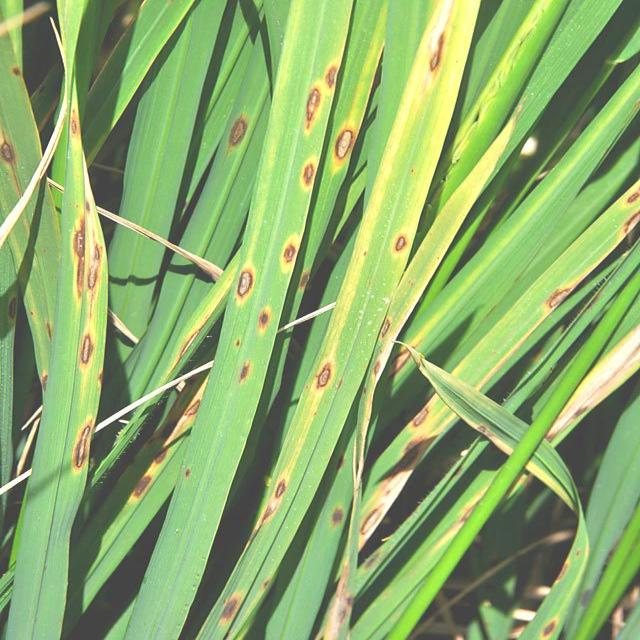Brown_Spot: (65, 221, 109, 295), (58, 410, 99, 480), (417, 21, 450, 81), (217, 258, 260, 304), (65, 328, 104, 369), (294, 78, 323, 132), (612, 182, 639, 240), (321, 124, 361, 161), (215, 586, 252, 624), (311, 52, 345, 90), (541, 279, 579, 313), (307, 353, 340, 392), (275, 229, 302, 276), (224, 106, 250, 148), (549, 550, 580, 585), (122, 471, 164, 496), (56, 101, 83, 139), (294, 152, 320, 190), (0, 136, 26, 171), (322, 500, 356, 526), (359, 499, 385, 532), (387, 223, 412, 256), (531, 613, 570, 634), (264, 471, 295, 496), (405, 404, 434, 427), (228, 360, 254, 382), (4, 61, 29, 80), (175, 462, 192, 480)
